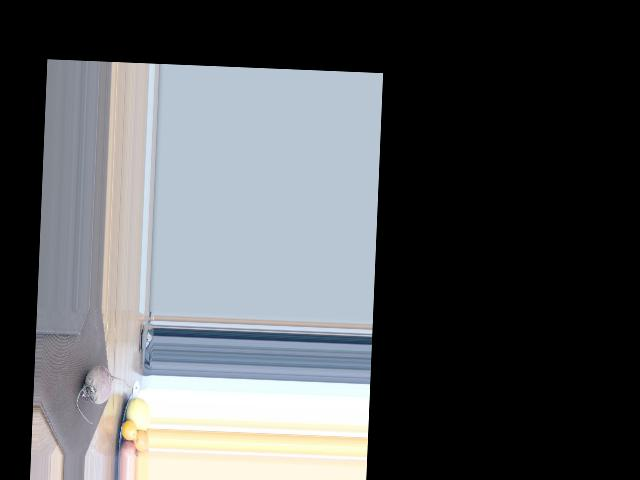beet: (75, 364, 129, 425)
